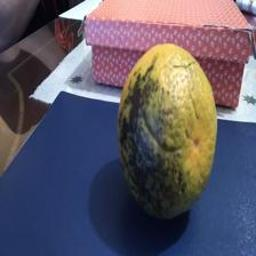Orange Semirotten: (106, 36, 216, 235)
